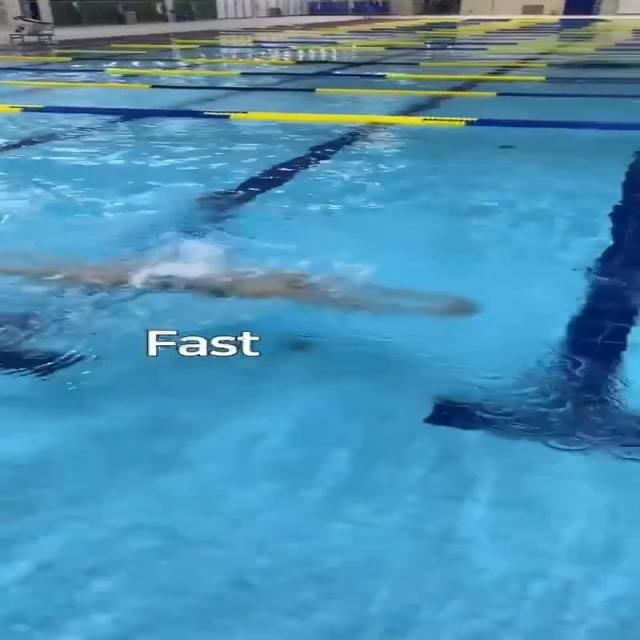Swimming: (8, 246, 517, 319)
